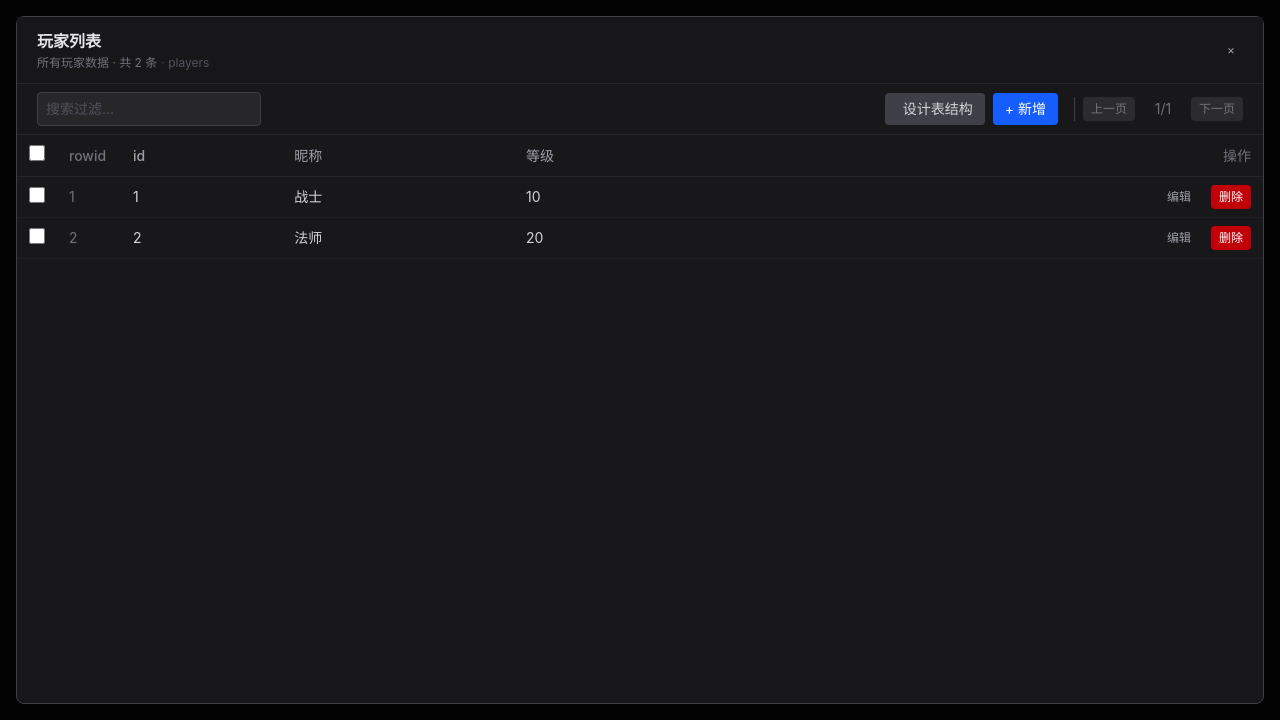
it: TableEditorPopup - 批量删除 › 选中行后显示"删除选中"按钮
The width and height of the screenshot is (1280, 720).
Expected: the text "战士" is shown, [294,188,322,205]
Note: 第一个 checkbox 是表头"全选"，从第二个开始是行内 checkbox
Click the checkbox named "选择 rowid 1 行" at point(37, 194), box [29,186,45,202]
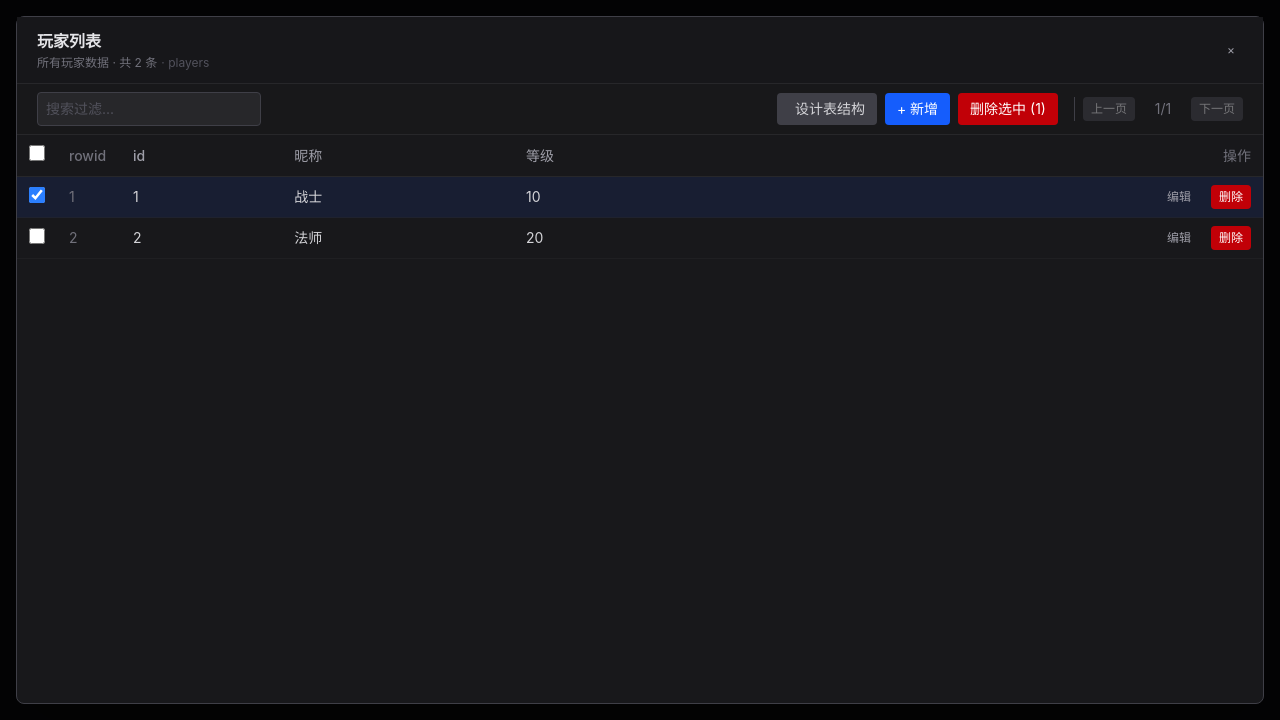
Now the button "删除选中 (1)" is shown, box [958,93,1058,125]
